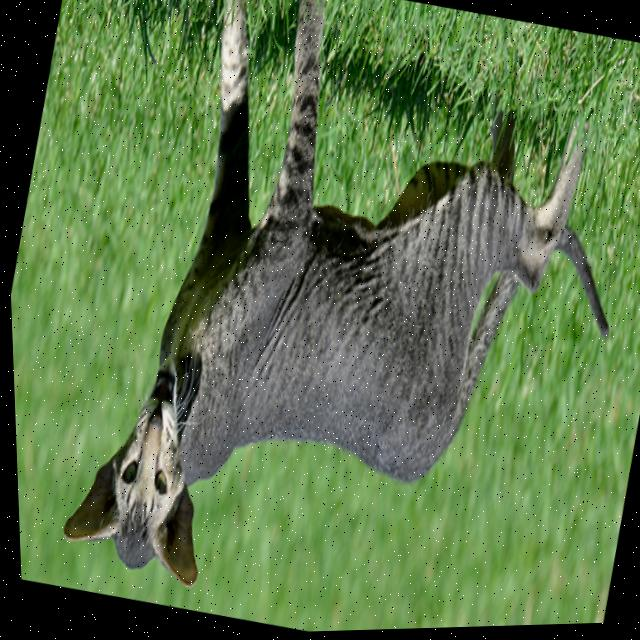Oriental: (32, 0, 640, 639)
